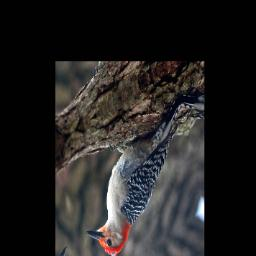Woodpecker: (73, 94, 202, 256)
